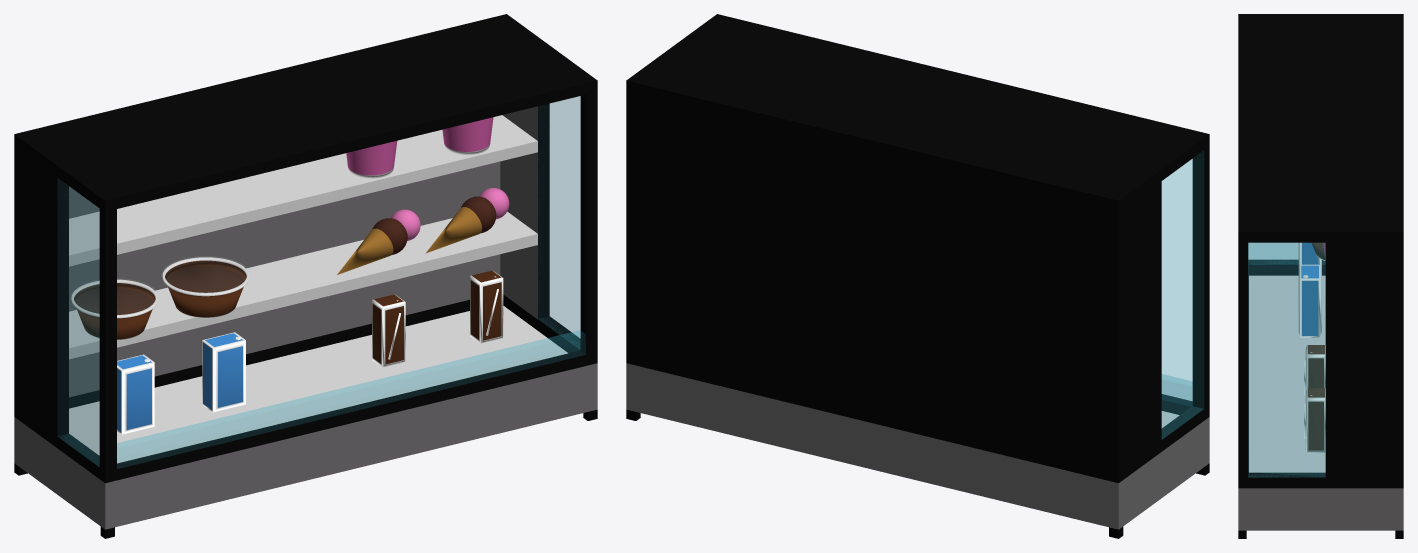
The model's file is milkfridge.fbx.
The picture shows the model from 3 angles, left to right: view 1: azimuth 30°, elevation 25°; view 2: azimuth 150°, elevation 25°; view 3: azimuth 270°, elevation 25°; orthographic projection. The views are drawn at different scales.
Visible parts, largest first — view 1: milkfridge; view 2: milkfridge; view 3: milkfridge.
Boxes of the visible parts, left/top/right/bottom form: milkfridge: left=14, top=14, right=597, bottom=538; milkfridge: left=626, top=14, right=1209, bottom=538; milkfridge: left=1238, top=14, right=1403, bottom=538.
Size of the model in its own units: 2000 by 1312 by 640.
